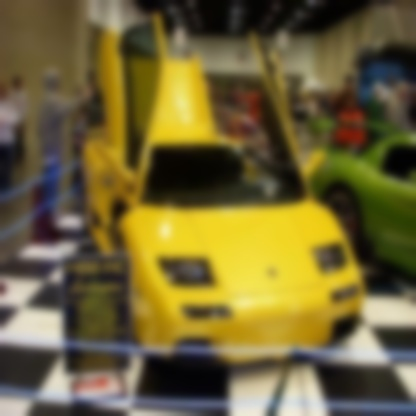Vehicle: (82, 11, 366, 362)
